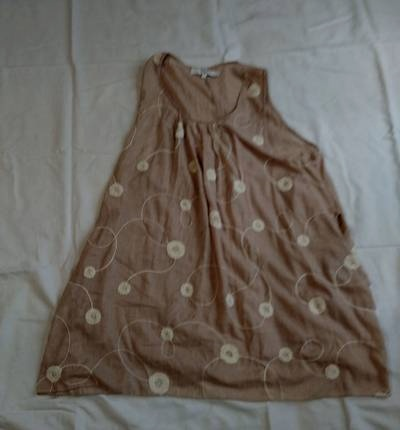Dress: (24, 36, 394, 415)
